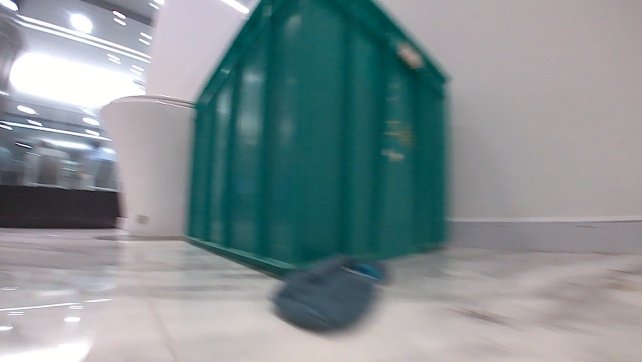socks: (267, 245, 388, 335)
toilet: (95, 87, 197, 239)
